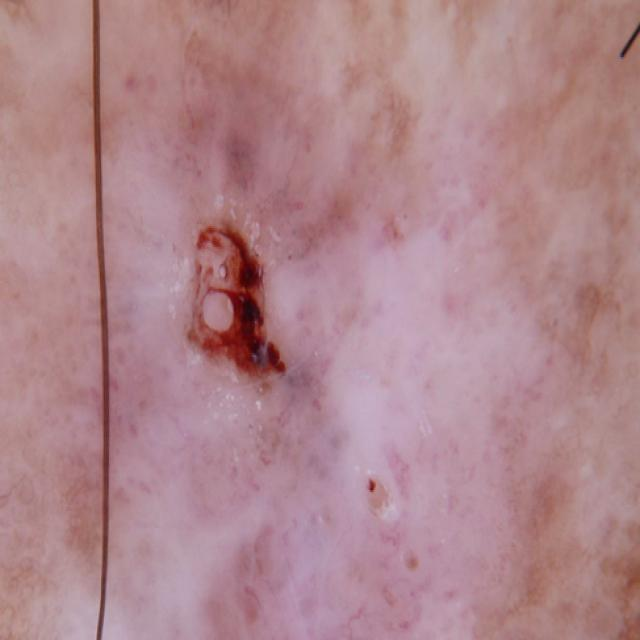Carcinoma: (178, 187, 350, 458)
